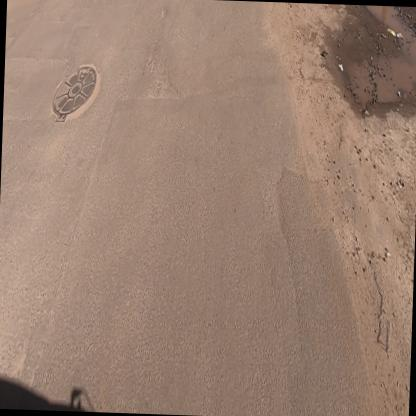manholes: (48, 45, 104, 143)
